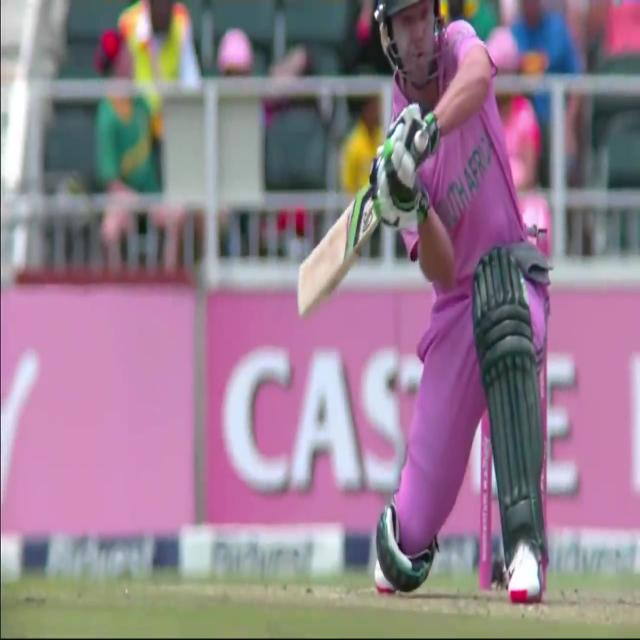Ball: (366, 0, 555, 603)
